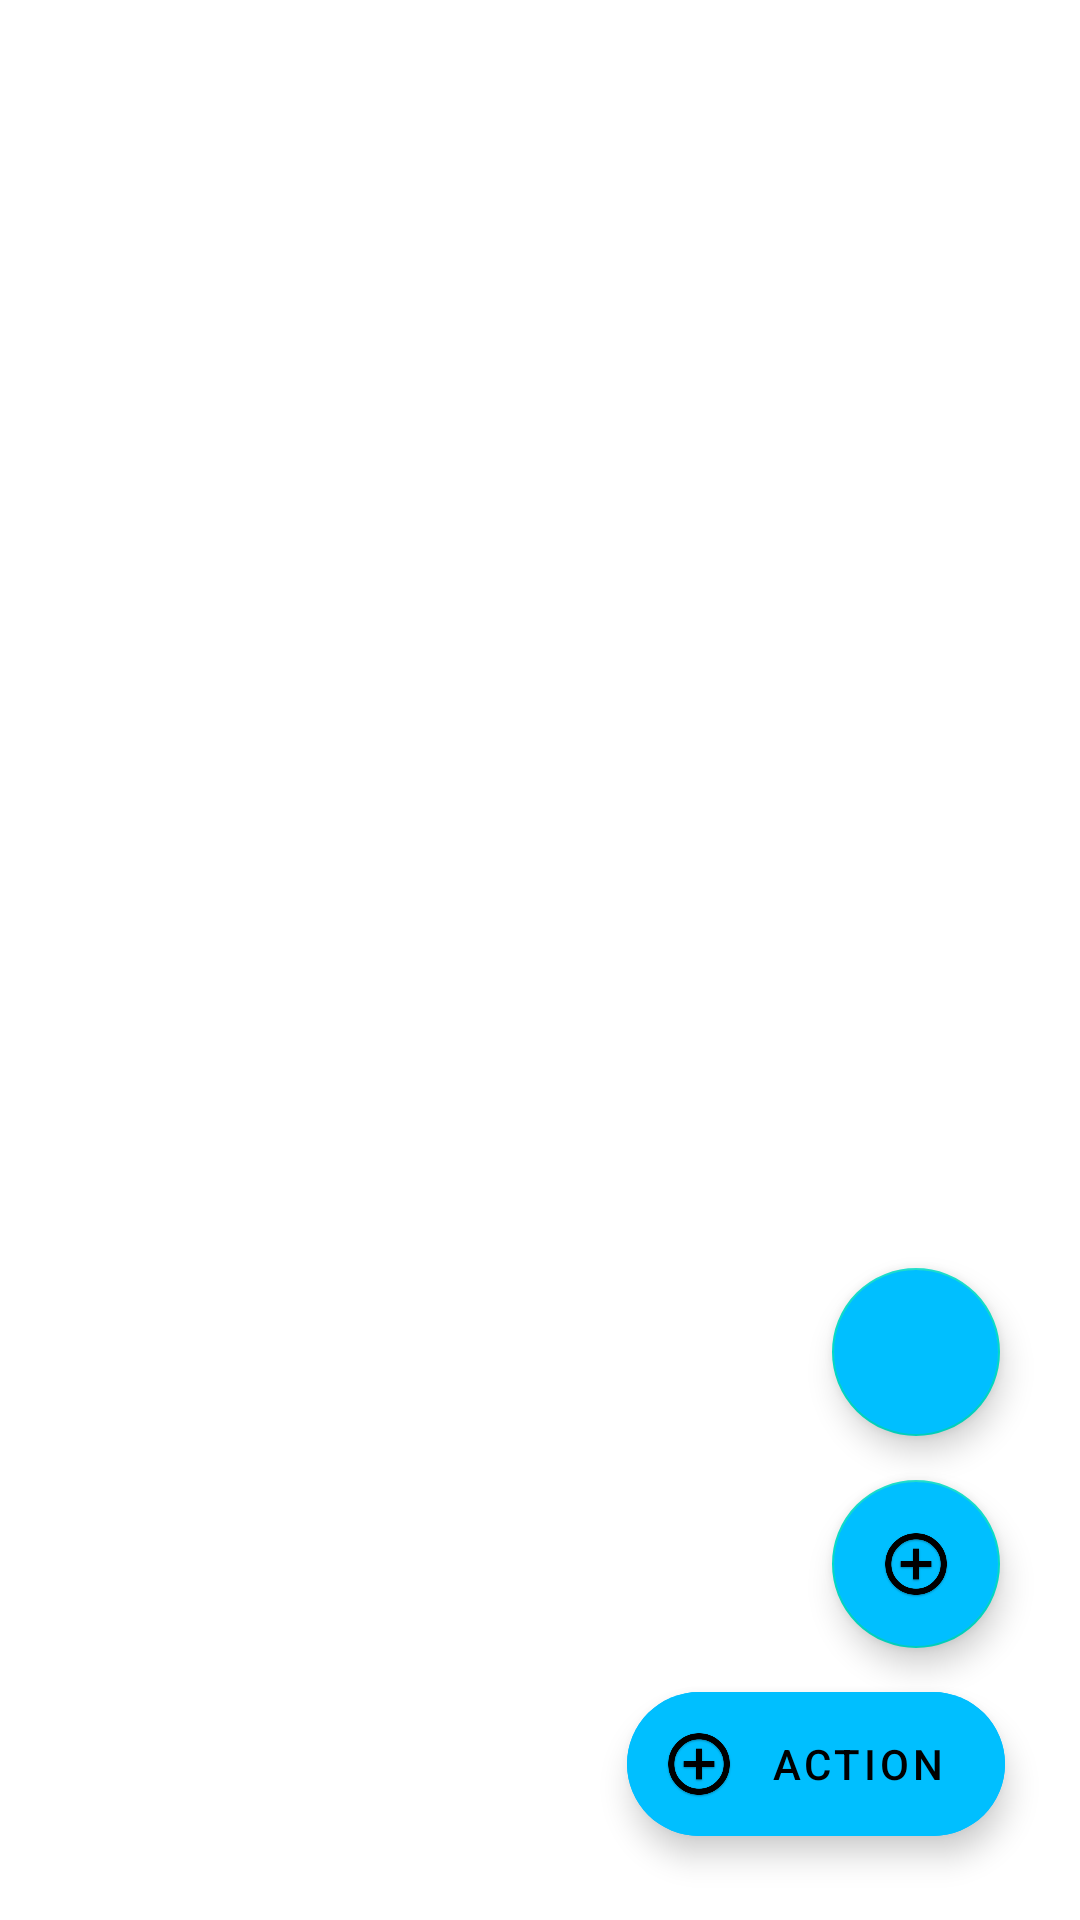

Screen size 1080*1920. Icon name, then its box in pixels as (x1, y1, x2, y2):
add: (832, 1480, 1000, 1648)
